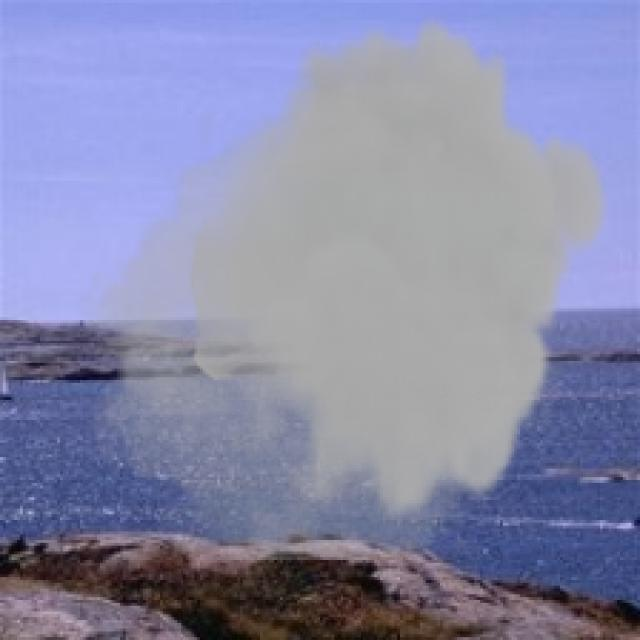Smoke: (74, 14, 612, 560)
